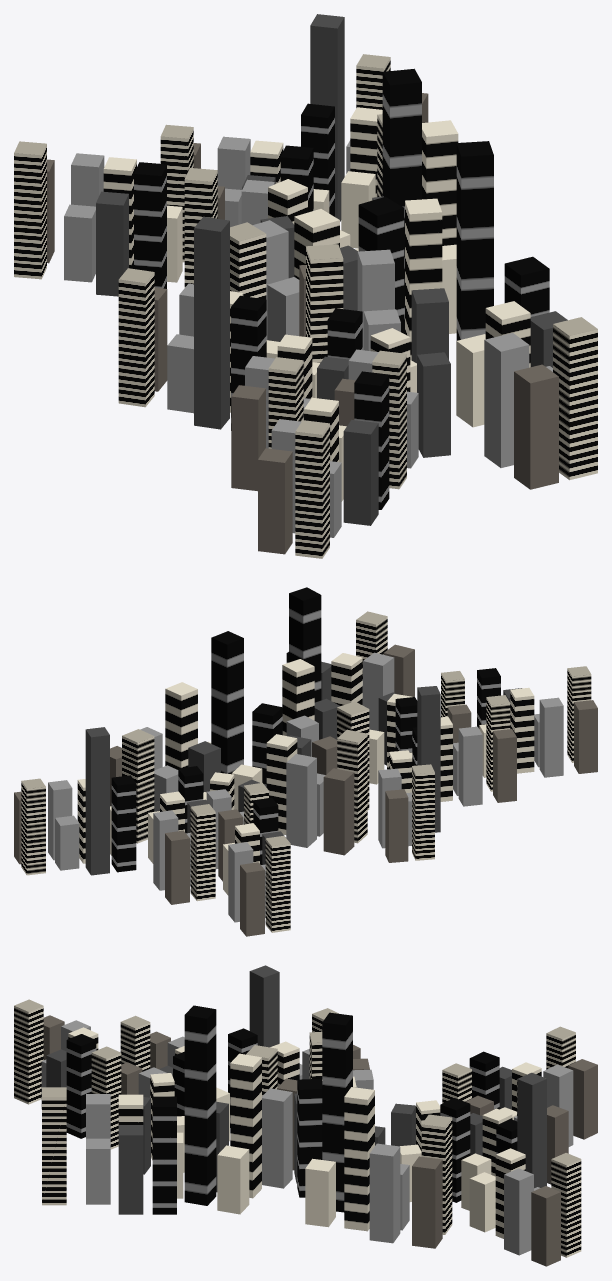
Rendered from SM_City.fbx.
3 views of the same model, one above another, from view 1: azimuth 30°, elevation 25°; view 2: azimuth 150°, elevation 25°; view 3: azimuth 270°, elevation 25° (orthographic). The views are drawn at different scales.
Parts seen in each view (by area): view 1: SM_City; view 2: SM_City; view 3: SM_City.
Part boxes in pixels (x1,y1,x2,y2): SM_City: [14, 14, 597, 558]; SM_City: [14, 587, 597, 936]; SM_City: [14, 965, 597, 1266].
Size of the model in its own units: 424 by 202 by 571.
